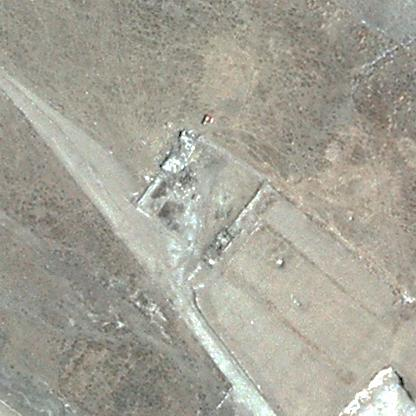collapsed: (160, 129, 202, 178), (201, 225, 237, 270), (176, 171, 200, 193)
